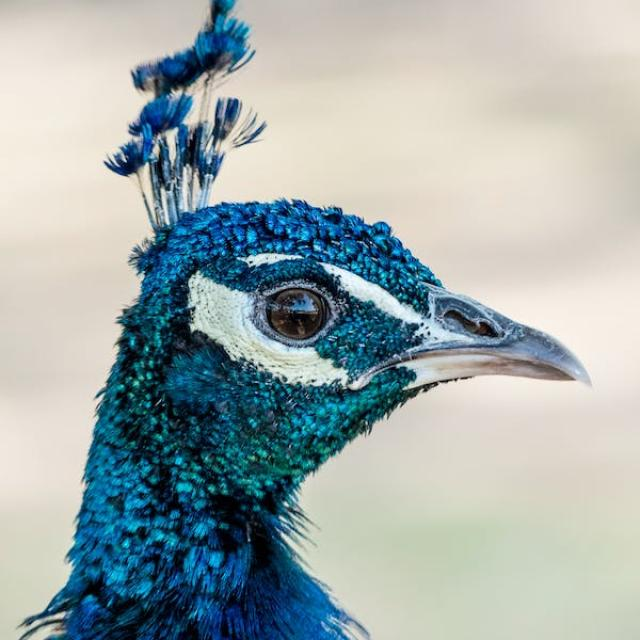peacock: (35, 2, 594, 640)
